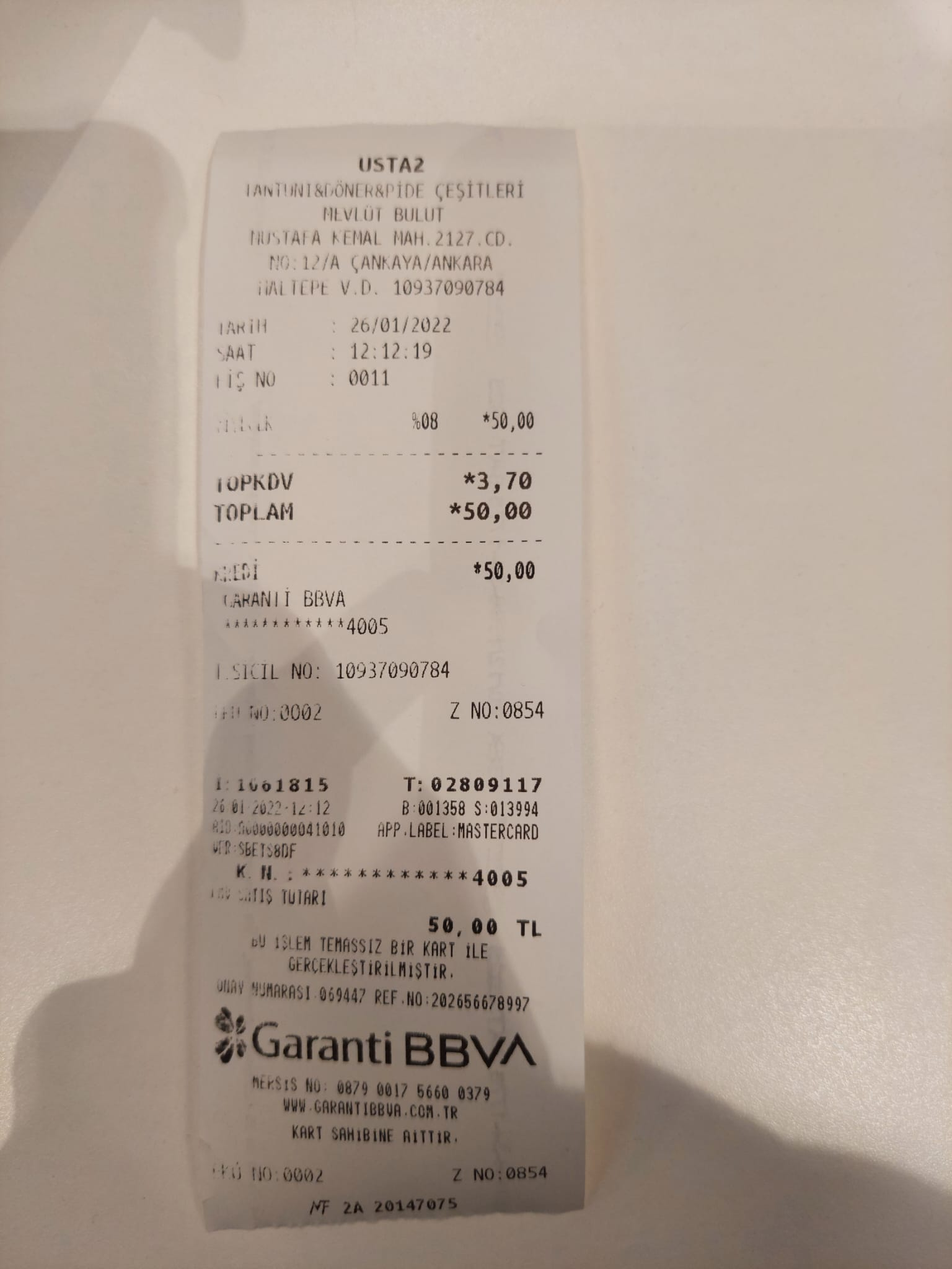date: (460, 494, 542, 531)
price: (346, 309, 455, 340)
workplace: (233, 149, 539, 276)
